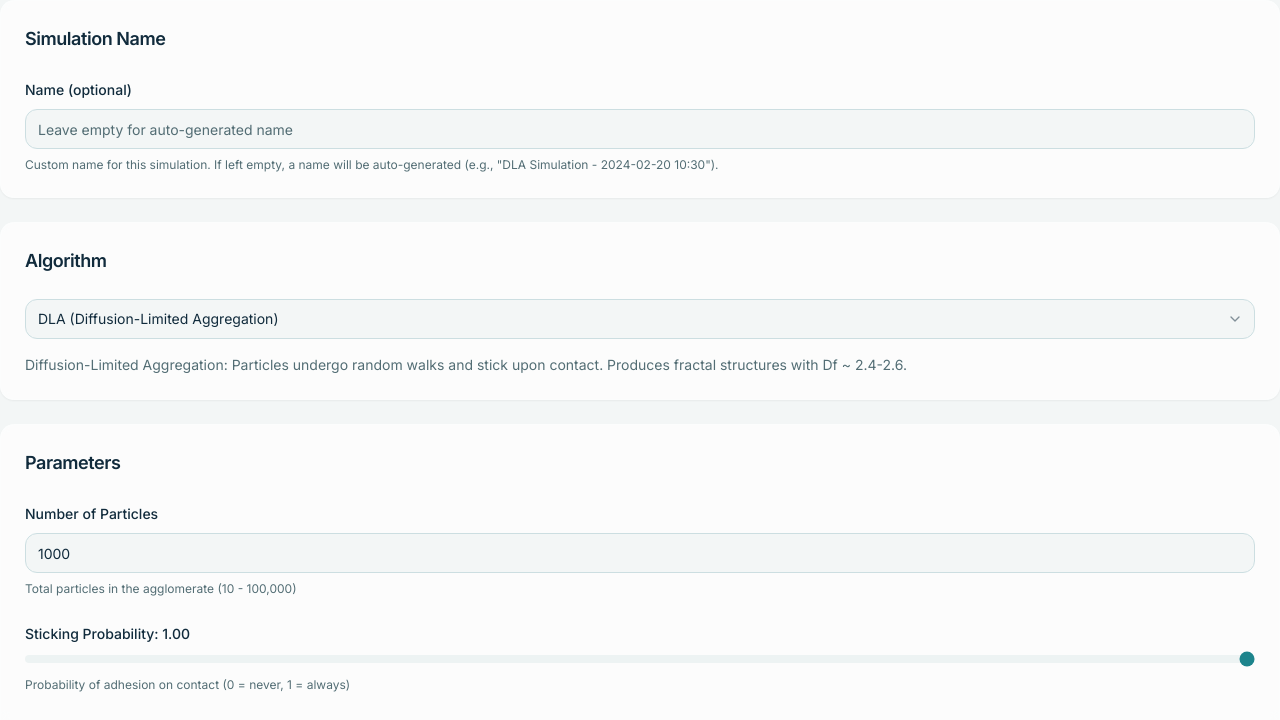
Test: SimulationForm — Seed Type dropdown (T5.1) › renders the Seed Type dropdown with 3 options when algorithm is tunable_cc
Select "Tunable CC (Cluster-Cluster)" in the dropdown at (640, 319), box [25,299,1255,339]
(page scrolled)
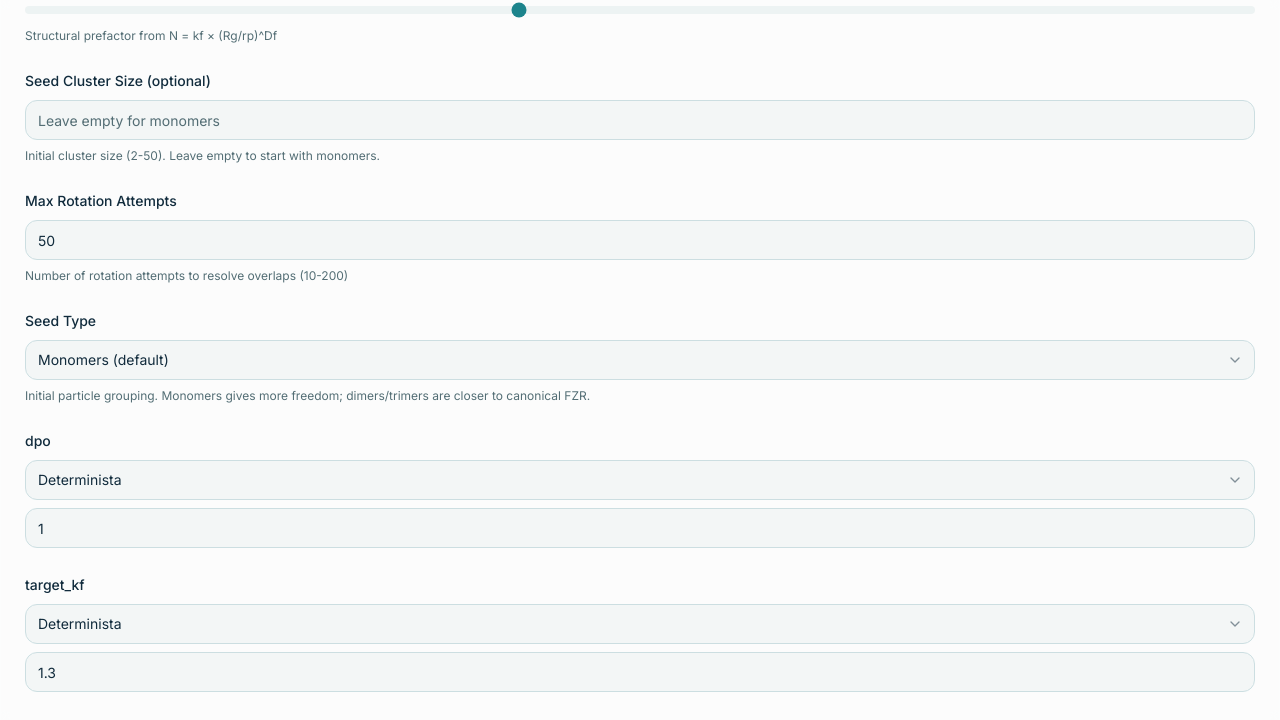
Expected: the dropdown labelled "Seed Type" is shown, [25,340,1255,380]
Expected: the text "dimers" is shown, [25,388,590,403]
Expected: the text "trimers" is shown, [25,388,590,403]
